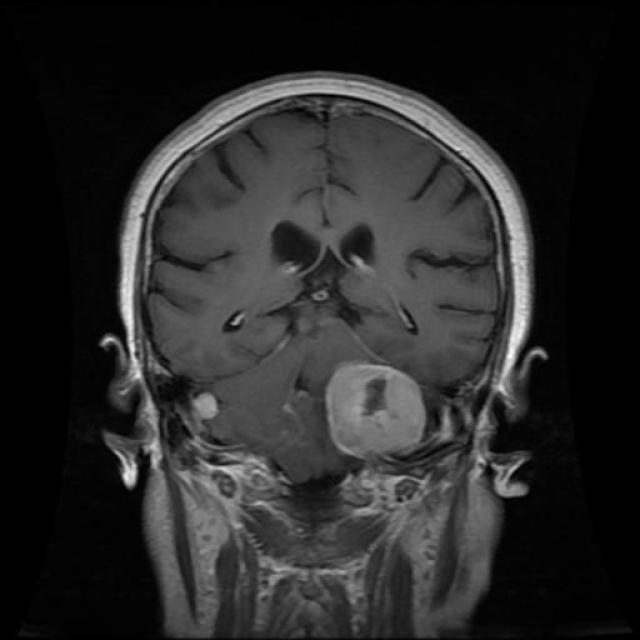meningioma: (325, 364, 426, 460)
